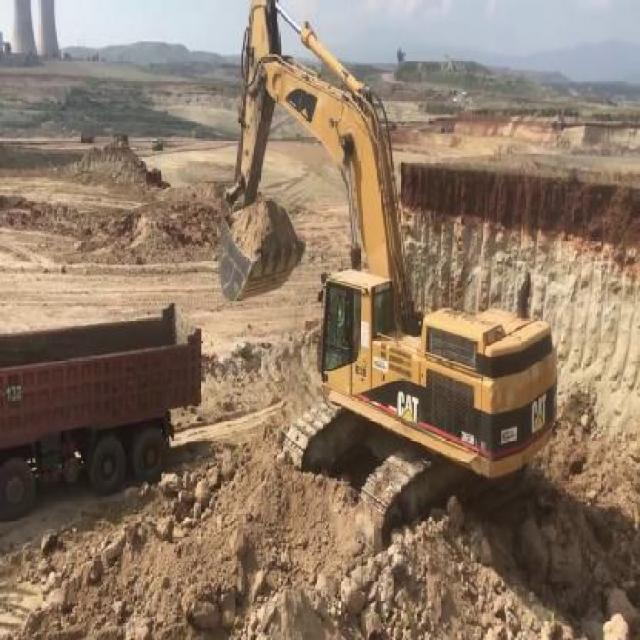Dump Truck: (1, 300, 205, 518)
Excavator: (215, 1, 580, 554)
